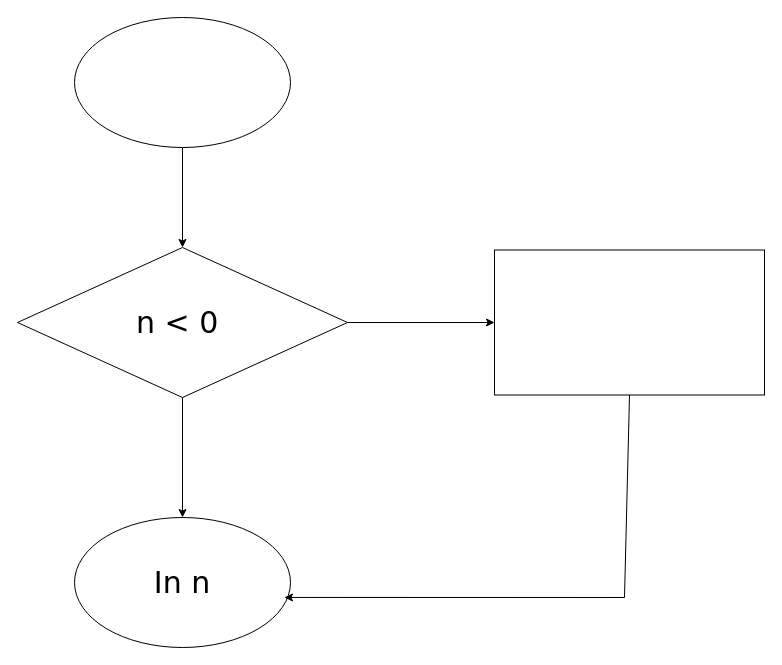
Some shapes in this 782 by 665 pixel diagram are drawn without their labels. The shapes that lost their labels are listed below. From the top down, each one's centre as x and y in pixels, then its label:
At [182,82]: "Nhập n".
At [629,322]: "n = n*(-1)".
